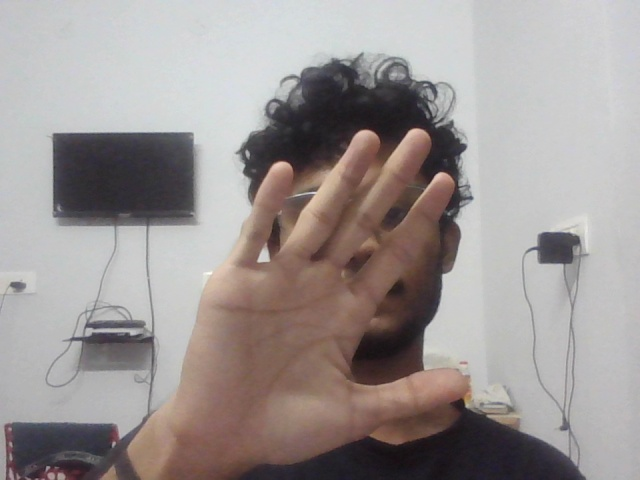Hello: (133, 121, 510, 476)
